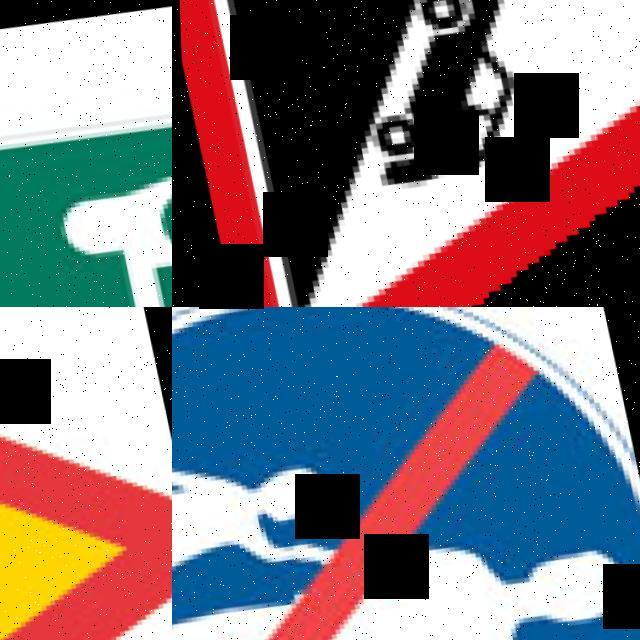112: (172, 307, 640, 640)
166: (0, 307, 172, 640)
74: (0, 37, 172, 307)
Steep ascent: (172, 0, 640, 307)
